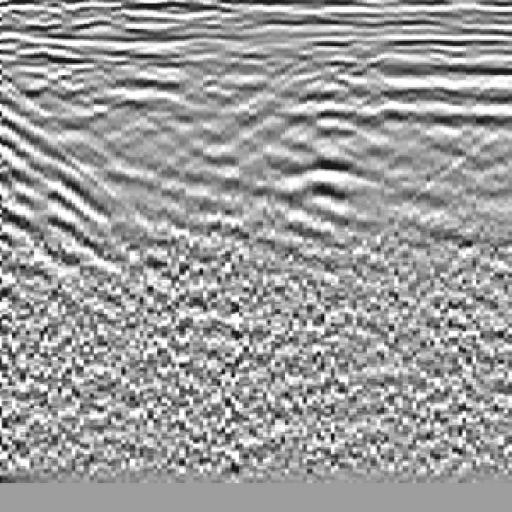metalic: (260, 34, 407, 265)
nonmetalic: (1, 42, 100, 300)
